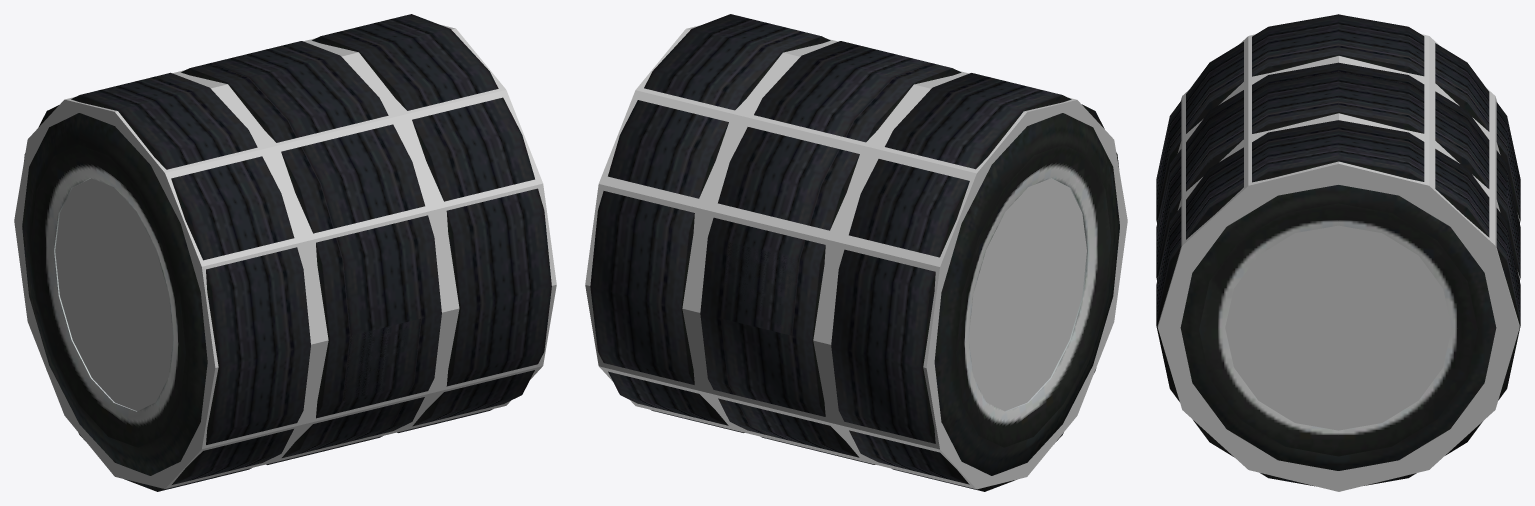
File: tire_16_out.fbx
3 renders of one model, left to right at view 1: azimuth 30°, elevation 25°; view 2: azimuth 150°, elevation 25°; view 3: azimuth 270°, elevation 25°, orthographic. The views are drawn at different scales.
Parts seen in each view (by area): view 1: Surface8, tire_rr_shadow, Surface6, Surface0, tire_rl_shadow, tire_fr_shadow, tire_fl_shadow; view 2: Surface8, tire_rr_shadow, Surface6, Surface0, tire_rl_shadow, tire_fr_shadow, tire_fl_shadow; view 3: tire_rl_shadow, Surface6, Surface8, Surface0, tire_rr_shadow, tire_fl_shadow, tire_fr_shadow.
Part boxes in pixels (left/top/right/bottom): Surface8: left=22, top=63, right=420, bottom=491; tire_rr_shadow: left=14, top=70, right=415, bottom=488; Surface6: left=312, top=14, right=551, bottom=432; Surface0: left=211, top=41, right=441, bottom=442; tire_rl_shadow: left=291, top=24, right=556, bottom=457; tire_fr_shadow: left=231, top=90, right=410, bottom=430; tire_fl_shadow: left=297, top=55, right=436, bottom=419; Surface8: left=721, top=63, right=1119, bottom=491; tire_rr_shadow: left=726, top=71, right=1127, bottom=489; Surface6: left=590, top=14, right=830, bottom=432; Surface0: left=700, top=41, right=931, bottom=442; tire_rl_shadow: left=585, top=25, right=851, bottom=433; tire_fr_shadow: left=731, top=119, right=865, bottom=462; tire_fl_shadow: left=698, top=56, right=848, bottom=436; tire_rl_shadow: left=1157, top=102, right=1519, bottom=491; Surface6: left=1156, top=112, right=1520, bottom=486; Surface8: left=1156, top=14, right=1520, bottom=235; Surface0: left=1156, top=72, right=1520, bottom=280; tire_rr_shadow: left=1157, top=14, right=1519, bottom=221; tire_fl_shadow: left=1177, top=102, right=1519, bottom=277; tire_fr_shadow: left=1181, top=85, right=1496, bottom=189.
Size of the model in its own units: 1.11 by 1.11 by 1.11.
